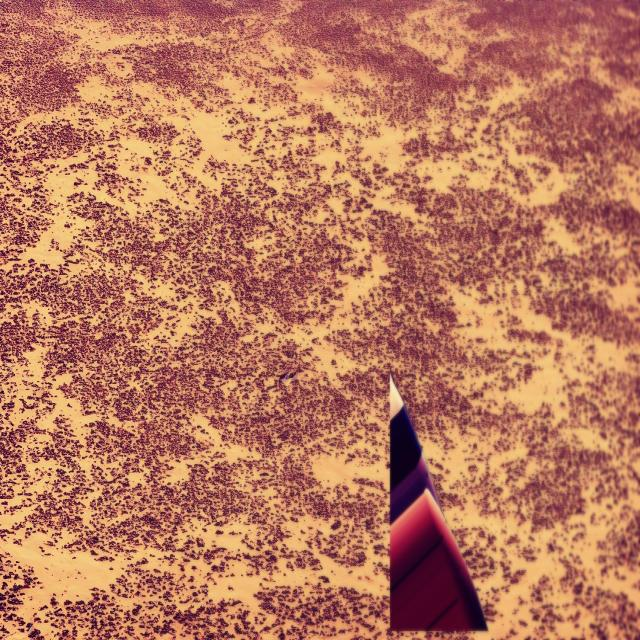airplane: (388, 371, 488, 633)
